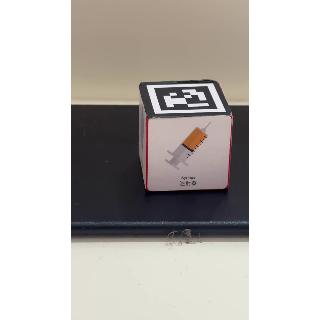Syringe: (148, 118, 233, 189)
